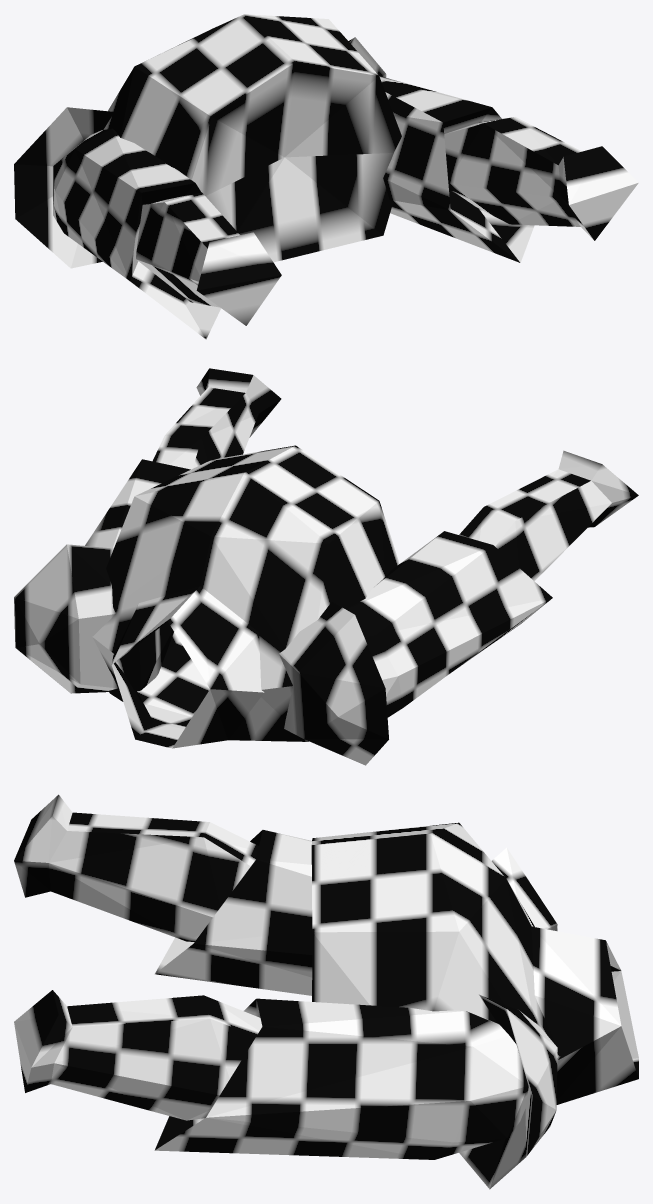
File: initarpl14.dae
3 renders of one model, top to bottom at view 1: azimuth 30°, elevation 25°; view 2: azimuth 150°, elevation 25°; view 3: azimuth 270°, elevation 25°, orthographic. The views are drawn at different scales.
Parts seen in each view (by area): view 1: armor; view 2: armor; view 3: armor.
Boxes of the visible parts, bbox=[...] form: armor: bbox=[14, 14, 638, 339]; armor: bbox=[14, 368, 638, 765]; armor: bbox=[14, 794, 638, 1189].
Size of the model in its own units: 1.6 by 1.71 by 0.8221.
1 material, 1 textured.
